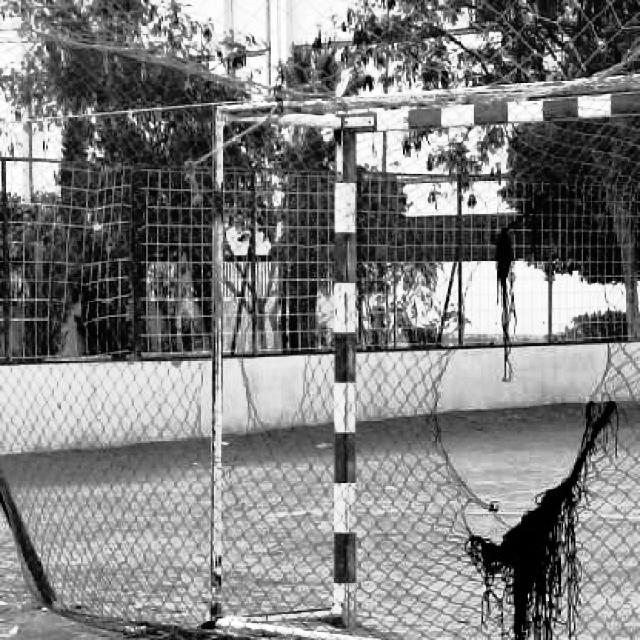anomaly-fence: (421, 183, 640, 640), (141, 222, 347, 530)
